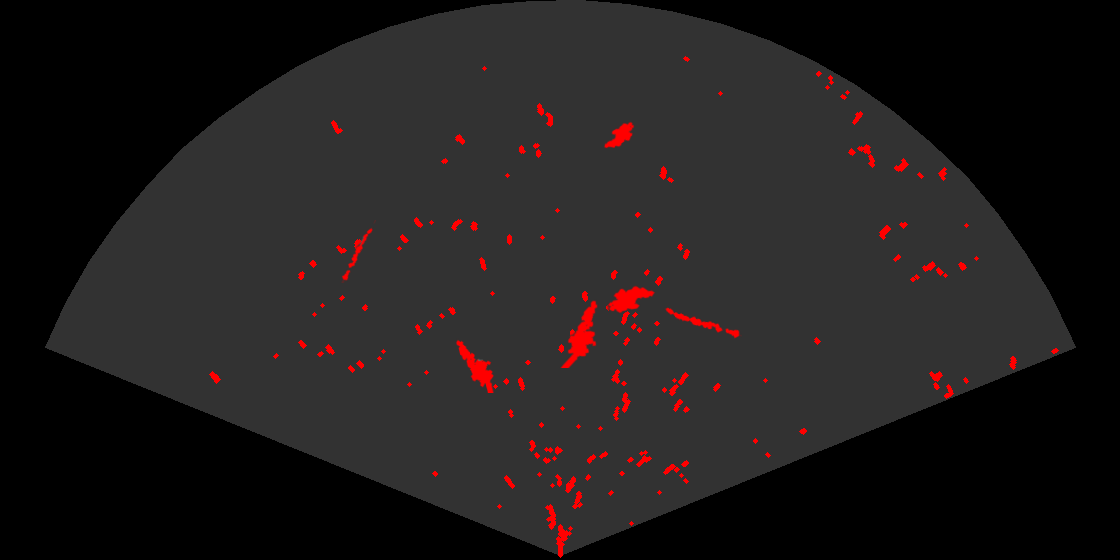AUV: (606, 284, 657, 315), (602, 120, 636, 150)
chain: (663, 306, 742, 340), (340, 220, 376, 283)
frogman: (559, 299, 599, 368), (455, 338, 495, 393)
